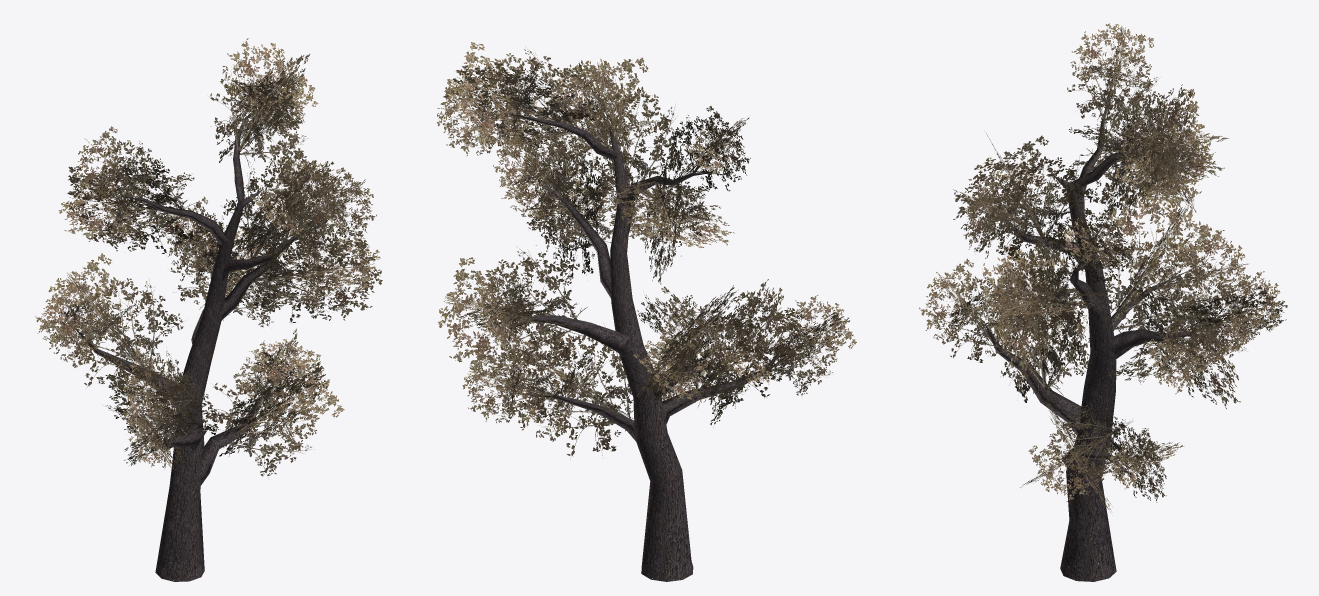
Rendered from tree_04.DAE.
The picture shows the model from 3 angles, left to right: view 1: azimuth 30°, elevation 25°; view 2: azimuth 150°, elevation 25°; view 3: azimuth 270°, elevation 25°; orthographic projection. The views are drawn at different scales.
Visible parts, largest first — view 1: Tree_Leafy_04a, Object004; view 2: Tree_Leafy_04a, Object004; view 3: Tree_Leafy_04a, Object004.
Part boxes in pixels (x1,y1,x2,y2): Tree_Leafy_04a: [35, 38, 382, 478]; Object004: [72, 111, 310, 581]; Tree_Leafy_04a: [437, 42, 856, 456]; Object004: [509, 113, 779, 581]; Tree_Leafy_04a: [919, 23, 1287, 512]; Object004: [984, 111, 1219, 581].
Bounding box in the file's own units: 6.08 × 8.9 × 5.78.
